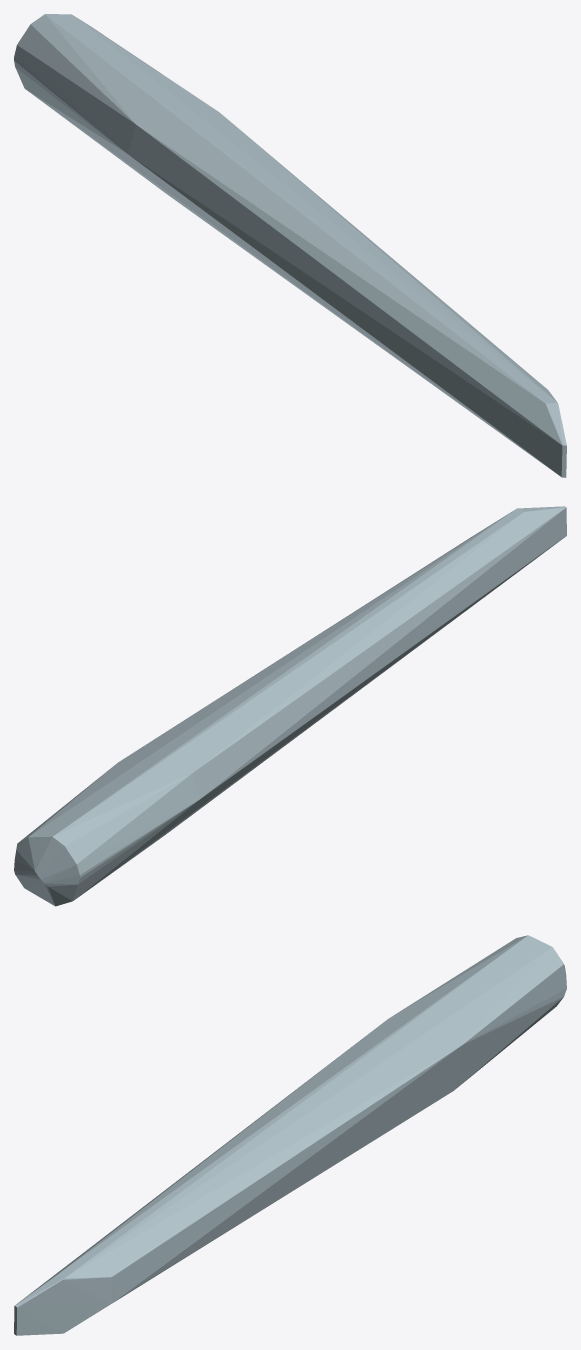
Rendered from handTool_pry_bar_17_7in_a01.glb.
3 renders of one model, top to bottom at view 1: azimuth 30°, elevation 25°; view 2: azimuth 150°, elevation 25°; view 3: azimuth 330°, elevation 25°, orthographic. The views are drawn at different scales.
Visible parts, largest first — view 1: geometry_0; view 2: geometry_0; view 3: geometry_0.
Boxes of the visible parts, x1=… form: geometry_0: x1=14, y1=14, x2=566, y2=477; geometry_0: x1=14, y1=506, x2=566, y2=906; geometry_0: x1=14, y1=935, x2=566, y2=1335.
Size of the model in its own units: 0.0458 by 0.0418 by 0.4798.
